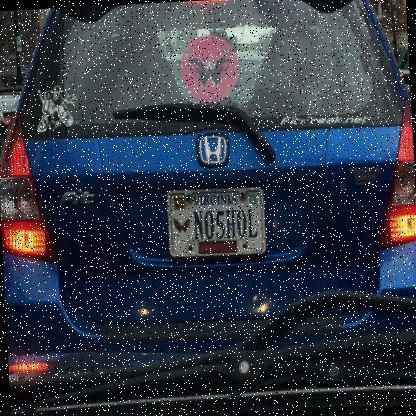License-Plate: (162, 173, 274, 270)
